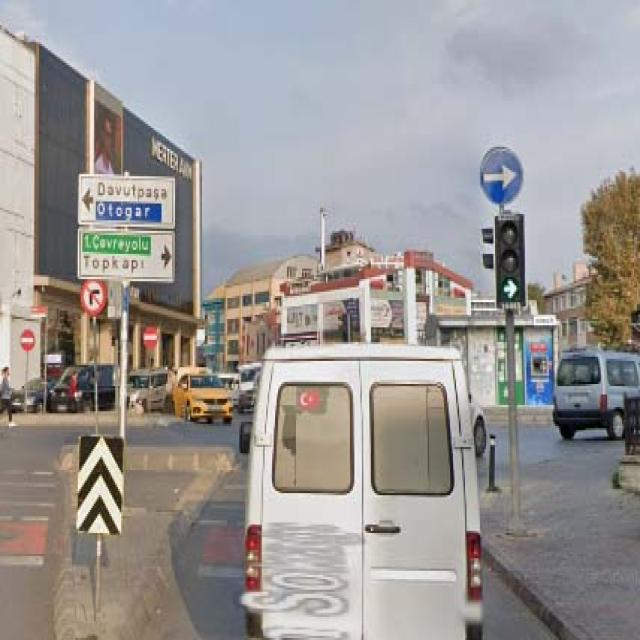girisyok: (19, 330, 36, 352), (144, 328, 157, 348)
sag: (480, 145, 523, 208)
sagadonulmez: (81, 279, 106, 317)
yesil: (495, 216, 526, 309)
